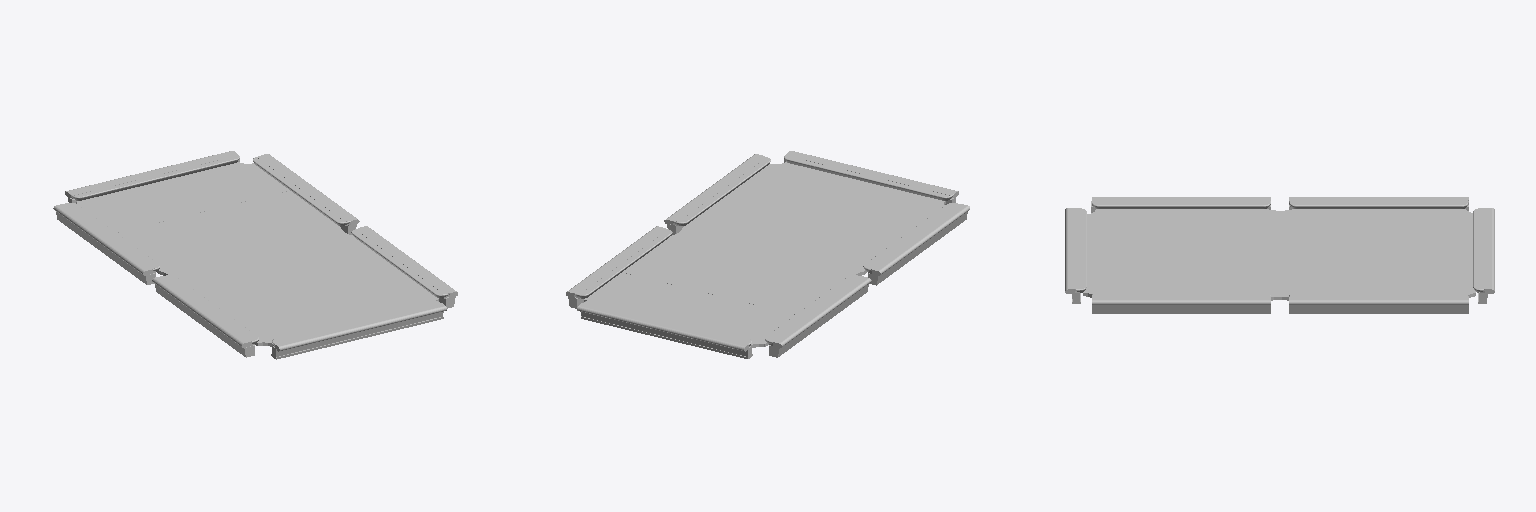
The model's file is pool-table-upper.obj.
3 renders of one model, left to right at view 1: azimuth 30°, elevation 25°; view 2: azimuth 150°, elevation 25°; view 3: azimuth 270°, elevation 25°, orthographic.
Visible parts, largest first — view 1: Table1; view 2: Table1; view 3: Table1.
Part boxes in pixels (bbox=[...]): Table1: bbox=[53, 151, 457, 359]; Table1: bbox=[566, 151, 969, 358]; Table1: bbox=[1065, 197, 1494, 313].
Bounding box in the file's own units: 1.75 × 0.1142 × 3.02.